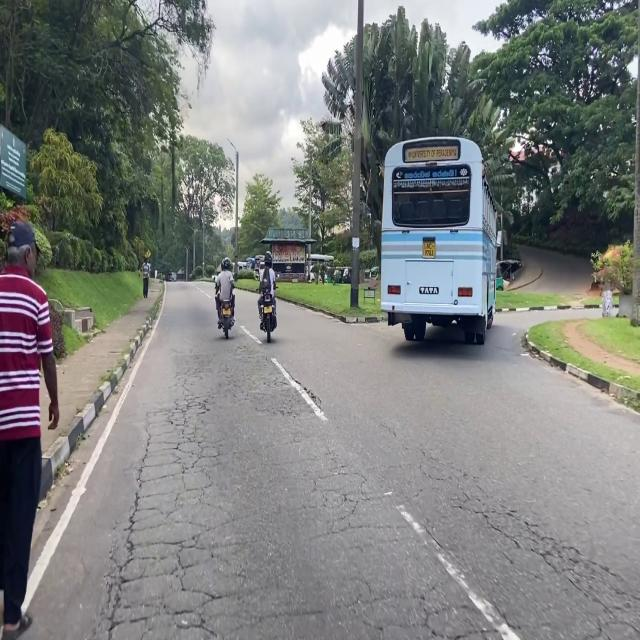bus: (381, 137, 496, 344), (309, 253, 334, 271)
motorcycle: (261, 294, 274, 343), (221, 301, 234, 338)
person: (0, 222, 59, 639), (258, 241, 277, 327), (215, 257, 234, 329), (142, 258, 150, 299)
three wheeler: (496, 261, 503, 290), (333, 267, 344, 283), (342, 267, 351, 283)
